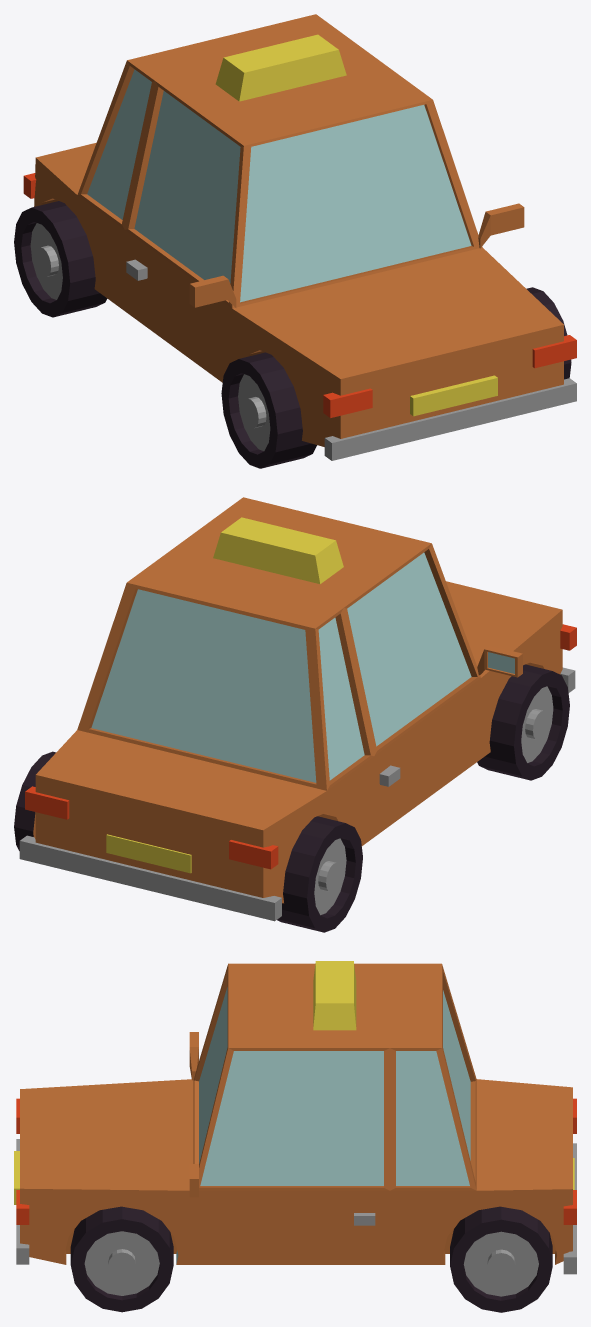
The model's file is Taxi.fbx.
3 views of the same model, one above another, from view 1: azimuth 30°, elevation 25°; view 2: azimuth 150°, elevation 25°; view 3: azimuth 270°, elevation 25° (orthographic). The views are drawn at different scales.
Visible parts, largest first — view 1: Cube.004, Cylinder.001, Cylinder.006, Cube, Cube.001; view 2: Cube.004, Cylinder.006, Cylinder.001, Cube, Cube.001; view 3: Cube.004, Cylinder.006, Cylinder.001, Cube, Cube.001.
Boxes of the visible parts, box(x1,y1,x2,y2) form: Cube.004: box(23, 14, 576, 460); Cylinder.001: box(221, 287, 571, 468); Cylinder.006: box(14, 201, 107, 317); Cube: box(215, 34, 346, 101); Cube.001: box(189, 203, 524, 307); Cube.004: box(19, 497, 576, 921); Cylinder.006: box(14, 751, 362, 932); Cylinder.001: box(477, 664, 569, 780); Cube: box(213, 517, 343, 584); Cube.001: box(477, 645, 522, 677); Cube.004: box(14, 963, 576, 1274); Cylinder.006: box(450, 1206, 552, 1312); Cylinder.001: box(70, 1206, 173, 1312); Cube: box(313, 961, 356, 1030); Cube.001: box(189, 1032, 198, 1197).
Bounding box in the file's own units: 378 × 319 × 613.
